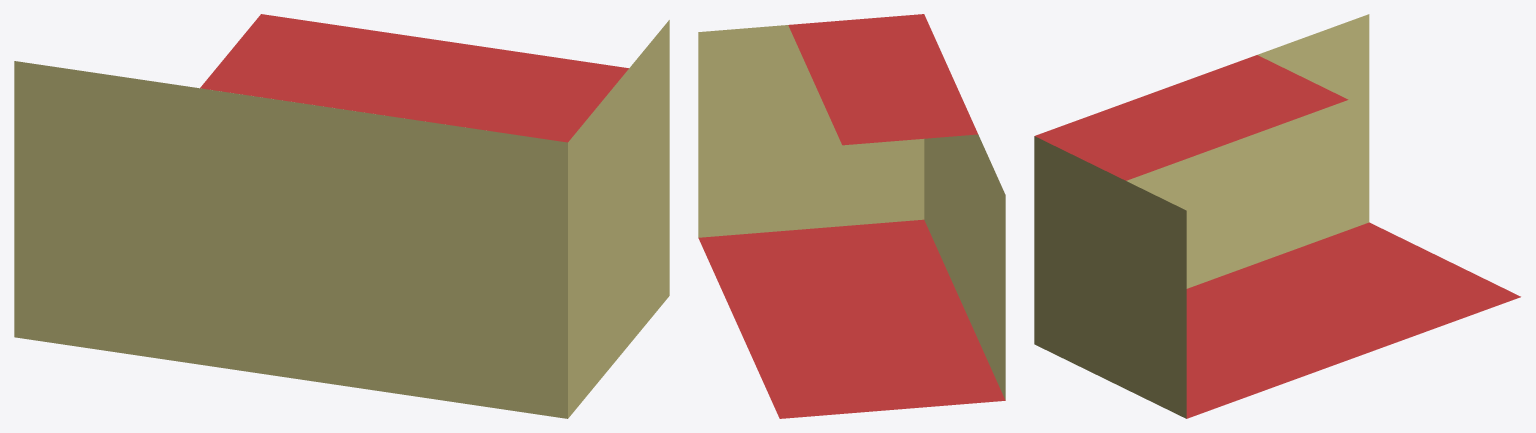
3 views of the same model, side by side, from view 1: azimuth 30°, elevation 25°; view 2: azimuth 150°, elevation 25°; view 3: azimuth 270°, elevation 25° (orthographic). The views are drawn at different scales.
Size of the model in its own units: 19.67 by 20.59 by 9.72.
